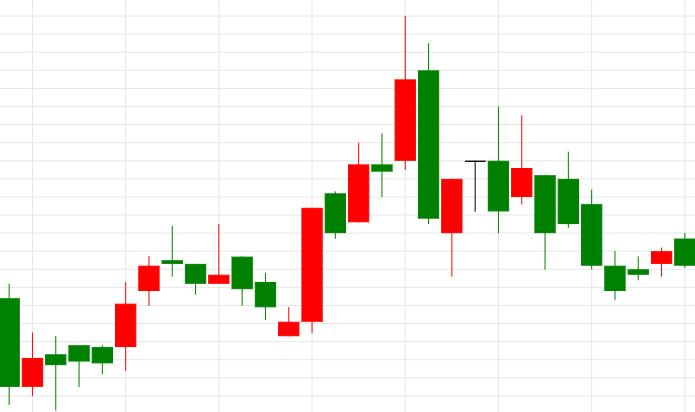evening_star_fall: (23, 225, 205, 412)
